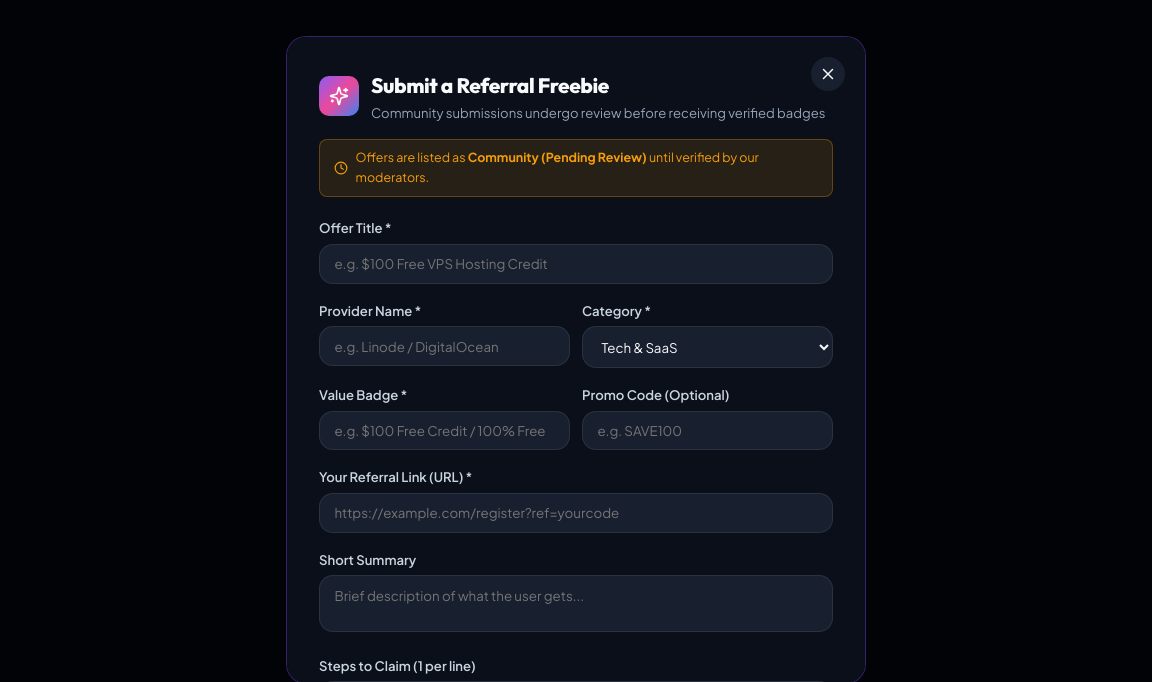
it: SubmitDealModal Component › displays URL validation error when submitting dangerous javascript: URL
Type "Malicious Offer" into the field with placeholder "e.g. $100 Free VPS Hosting Credit". click: point(576, 264)
box: left=319, top=244, right=833, bottom=284
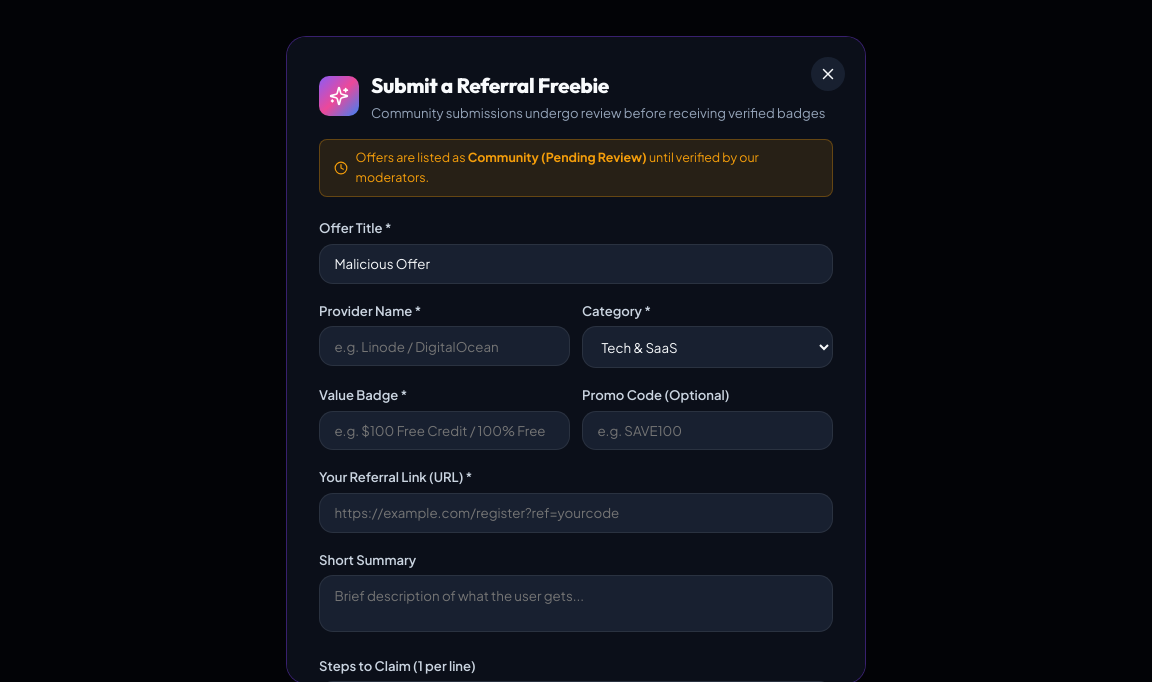
Type "BadActor" into the field with placeholder "e.g. Linode / DigitalOcean". click: point(444, 346)
box: left=319, top=326, right=570, bottom=366
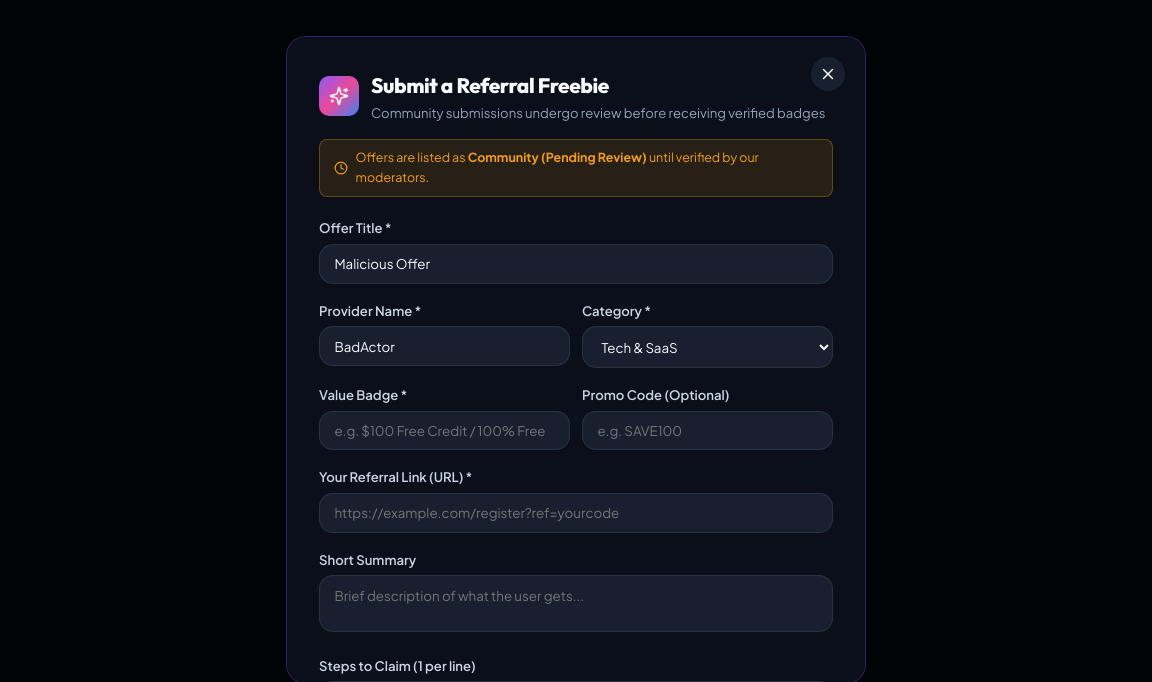
Type "$100 Free" into the field with placeholder "e.g. $100 Free Credit / 100% Free". click: point(444, 430)
box: left=319, top=410, right=570, bottom=450
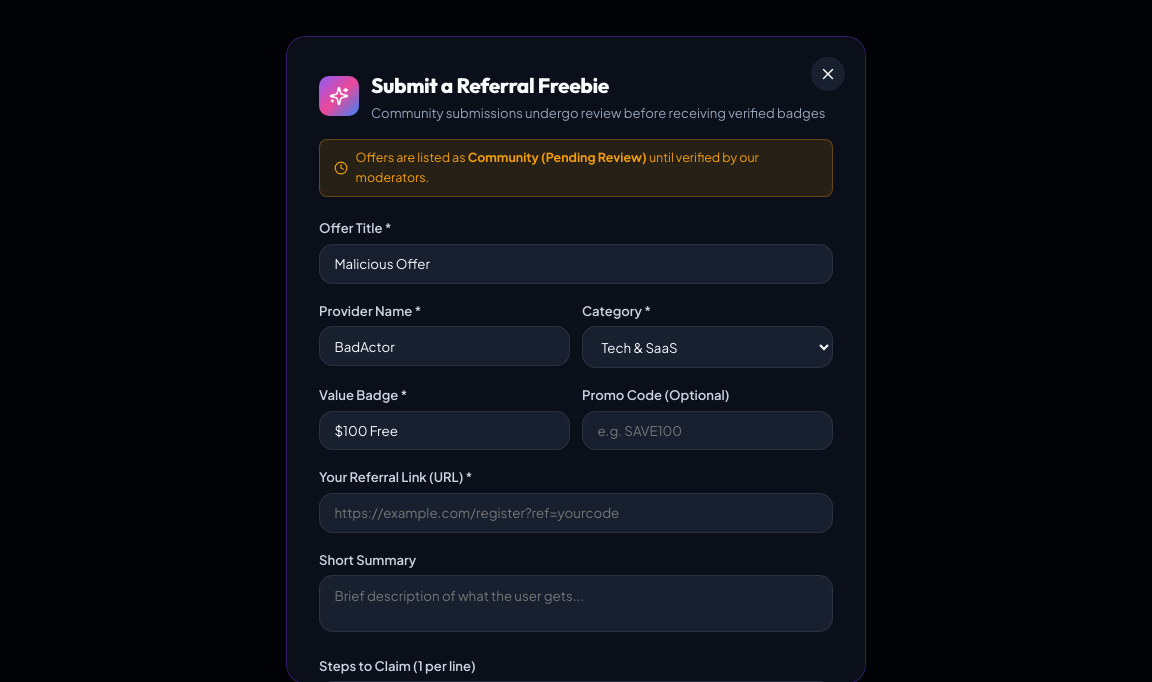
Type "javascript:alert(1)" into the field with placeholder "https://example.com/register?ref=yourcode". click: point(576, 513)
box: left=319, top=493, right=833, bottom=533
(page scrolled)
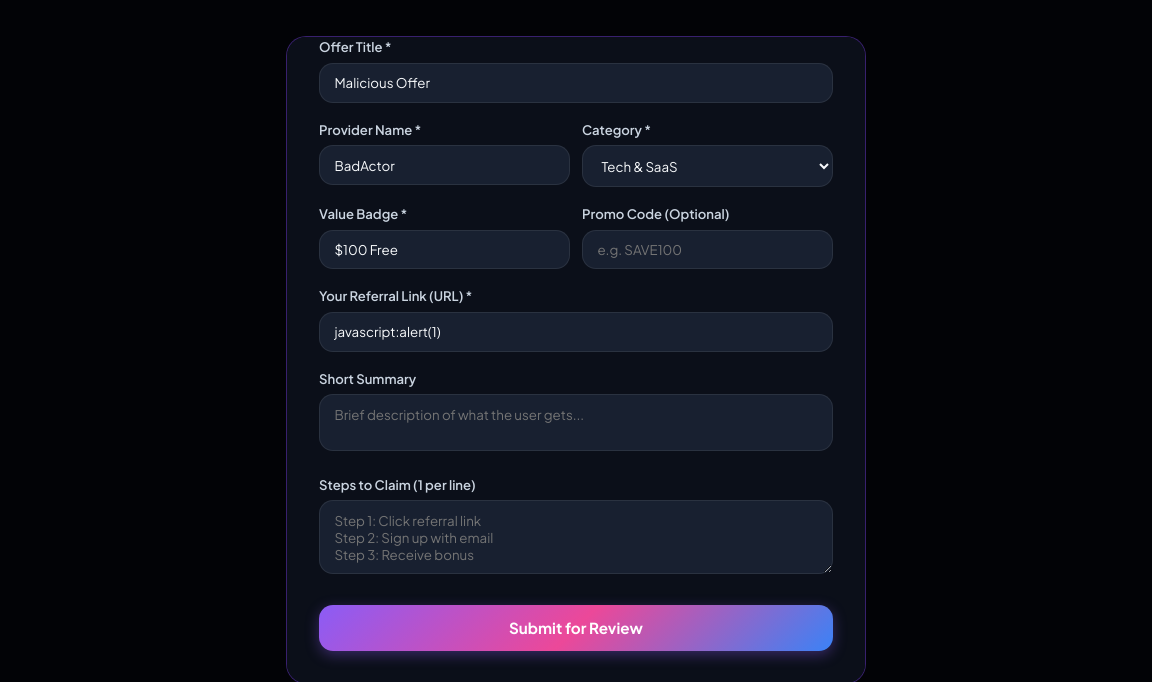
Click the button "Submit for Review". click: point(576, 628)
box: left=319, top=605, right=833, bottom=651
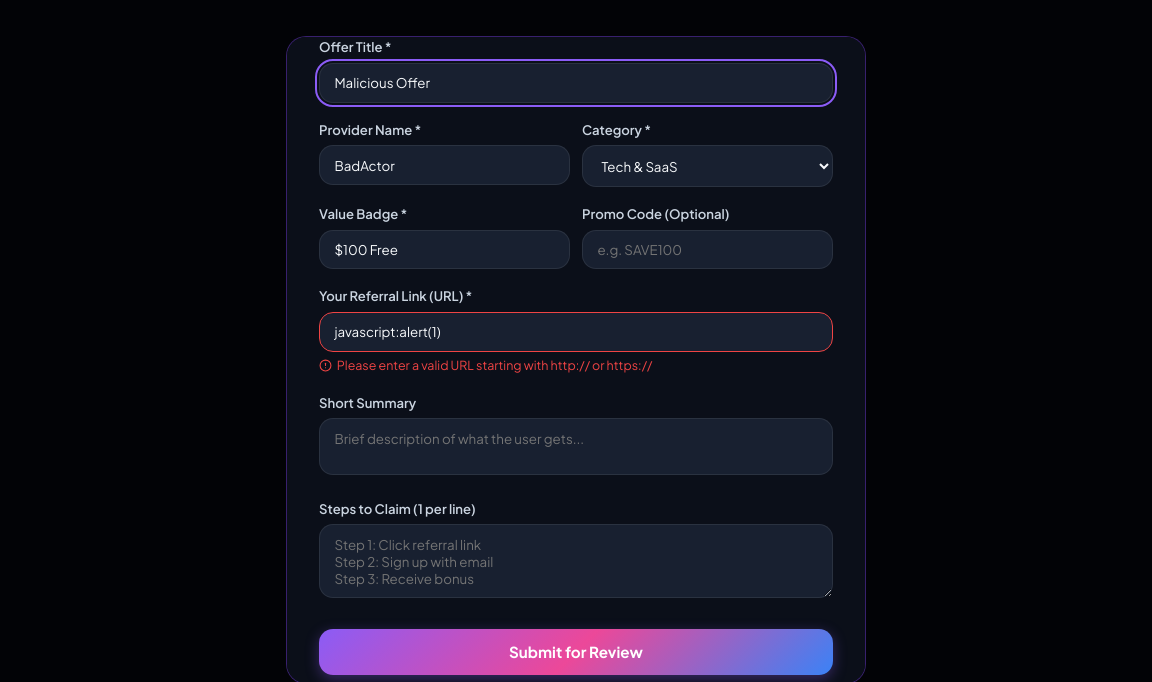
Now the text "Please enter a valid URL starting with http:// or https://" is shown, box left=337, top=356, right=652, bottom=376
